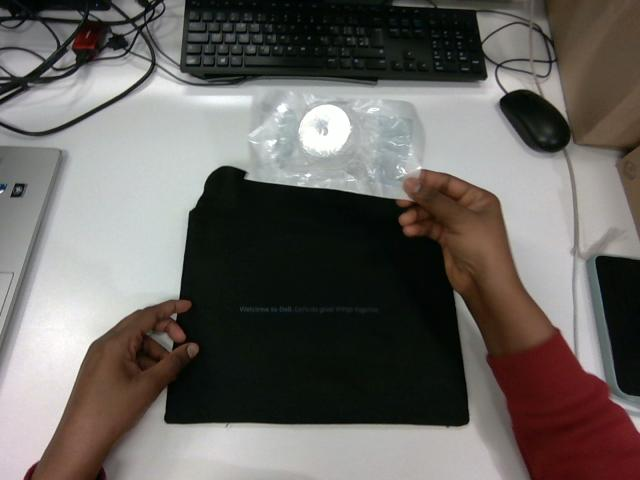gallipot: (249, 91, 423, 197)
